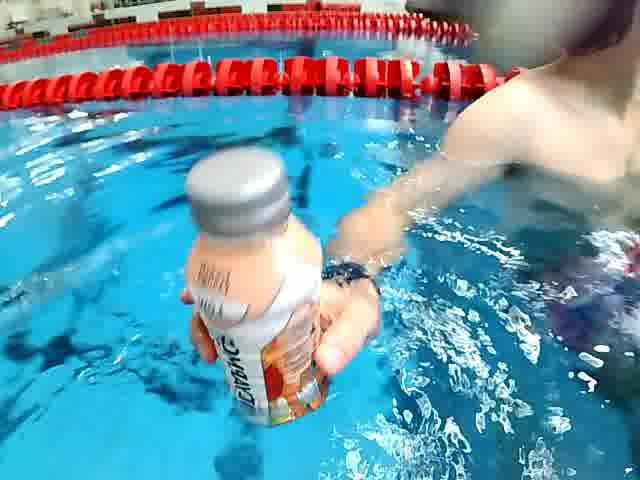Bottle: (160, 99, 353, 442)
